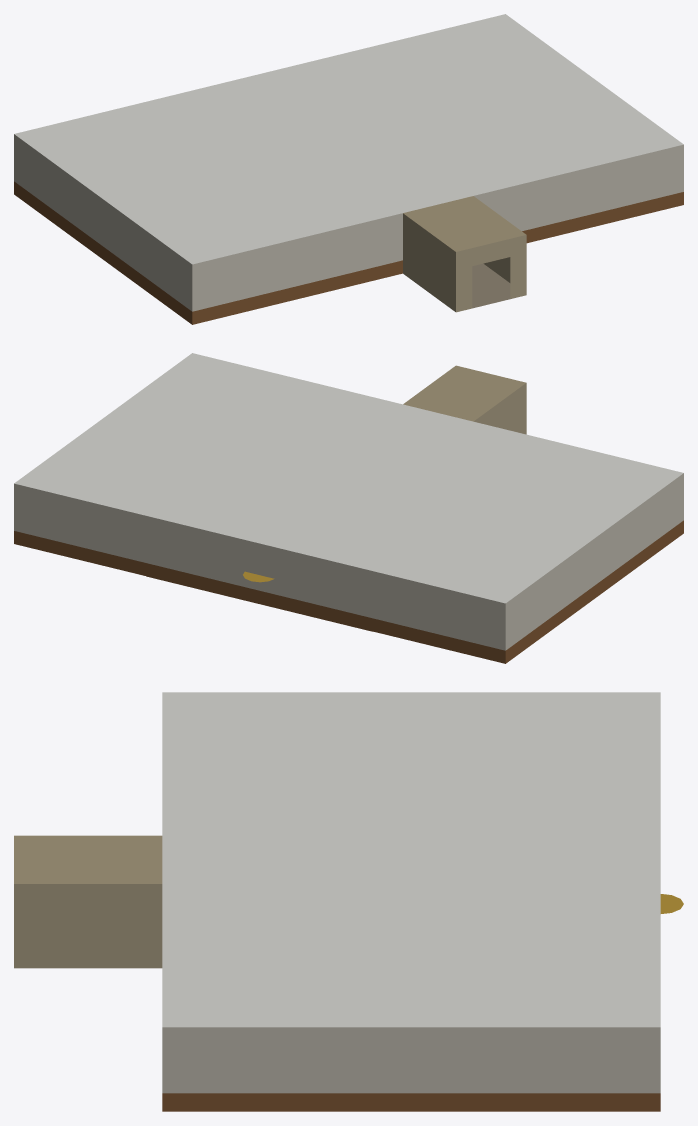
Rendered from cityhall_int.glb.
3 views of the same model, one above another, from view 1: azimuth 30°, elevation 25°; view 2: azimuth 150°, elevation 25°; view 3: azimuth 270°, elevation 25° (orthographic). The views are drawn at different scales.
Parts seen in each view (by area): view 1: cityhall_int; view 2: cityhall_int; view 3: cityhall_int.
Boxes of the visible parts, x1,y1,x2,y2 form: cityhall_int: (14, 14, 683, 324); cityhall_int: (14, 353, 683, 663); cityhall_int: (14, 692, 683, 1111).
Bounding box in the file's own units: 39 × 4.6 × 32.95.
